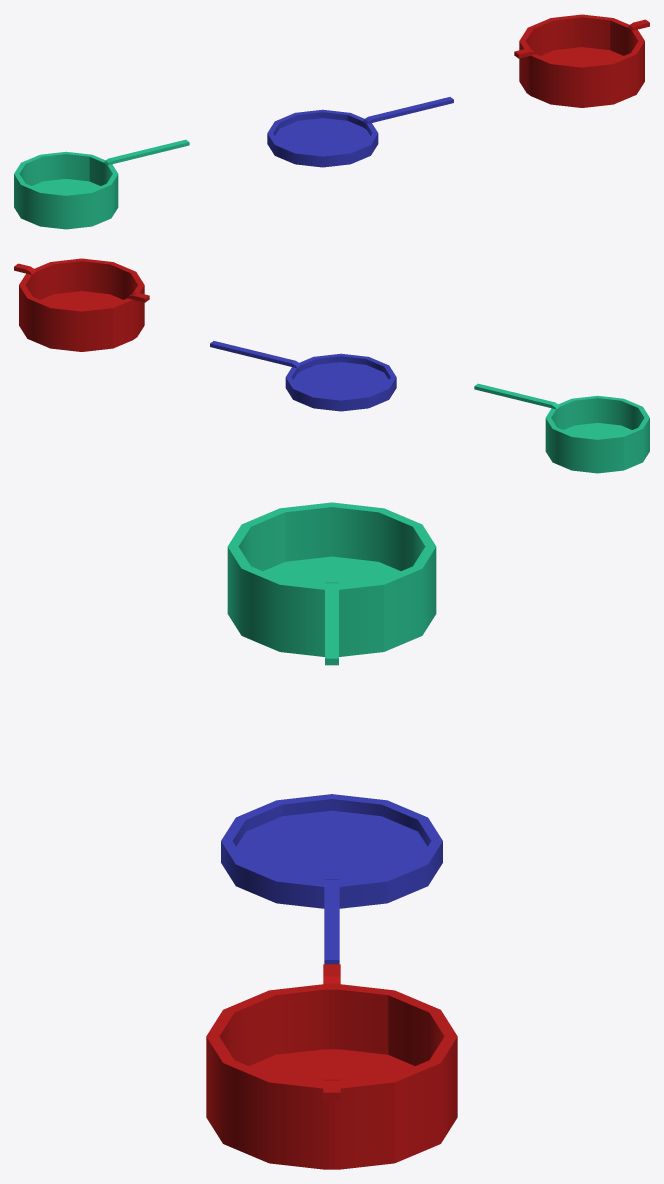
File: Pot002.FBX
The picture shows the model from 3 angles, top to bottom: view 1: azimuth 30°, elevation 25°; view 2: azimuth 150°, elevation 25°; view 3: azimuth 270°, elevation 25°; orthographic projection. The views are drawn at different scales.
Parts seen in each view (by area): view 1: Pot003, Pot001, Pot002; view 2: Pot003, Pot001, Pot002; view 3: Pot003, Pot001, Pot002.
Boxes of the visible parts, box(x1,y1,x2,y2) form: Pot003: box(514, 14, 649, 107); Pot001: box(14, 139, 189, 229); Pot002: box(267, 97, 453, 167); Pot003: box(14, 258, 149, 351); Pot001: box(474, 383, 649, 473); Pot002: box(210, 341, 396, 411); Pot003: box(206, 964, 457, 1169); Pot001: box(227, 502, 436, 665); Pot002: box(221, 794, 442, 964).
Size of the model in its own units: 2.95 by 0.1997 by 0.5122.
